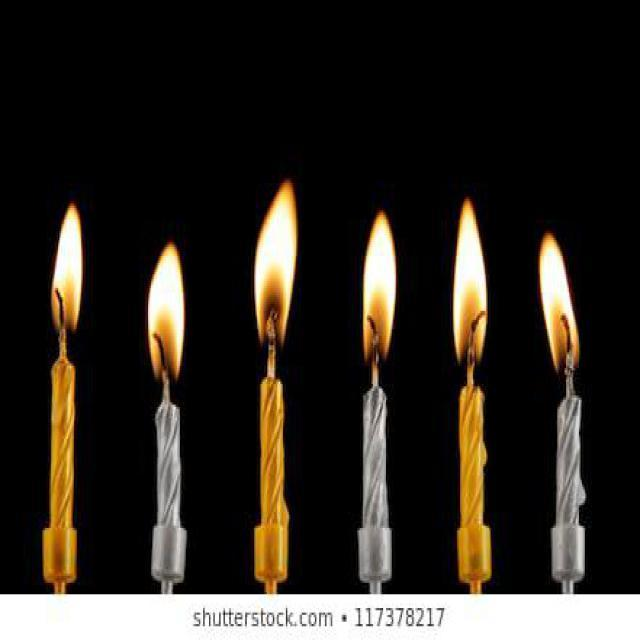Fire: (254, 178, 296, 345), (538, 232, 580, 378), (452, 199, 488, 368), (362, 209, 397, 365), (148, 242, 184, 382), (50, 205, 82, 338)
